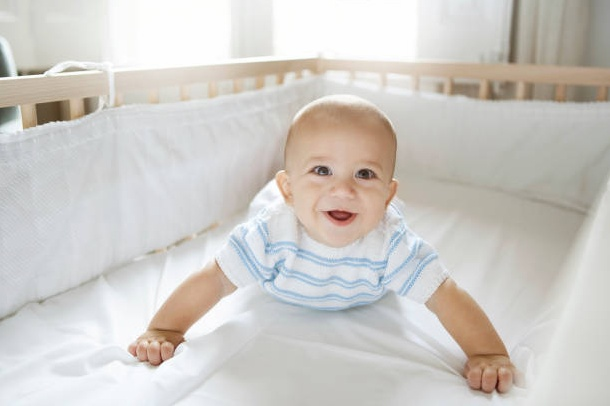baby: (129, 95, 515, 391)
crib: (0, 58, 609, 404)
